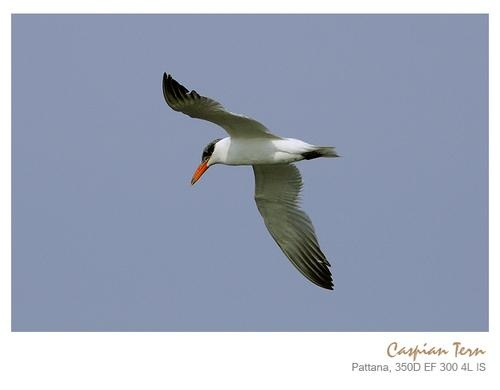bird: (157, 69, 342, 290)
